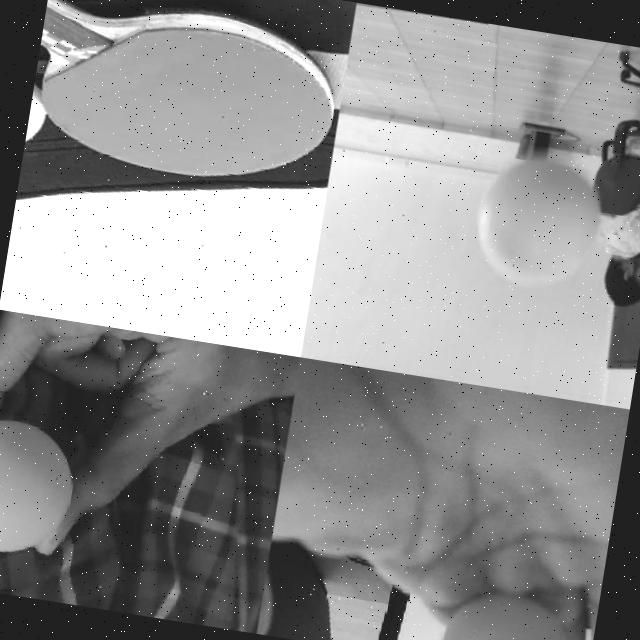ping-pong-ball: (468, 154, 604, 296), (0, 416, 79, 561), (435, 582, 574, 640), (23, 74, 46, 150)
